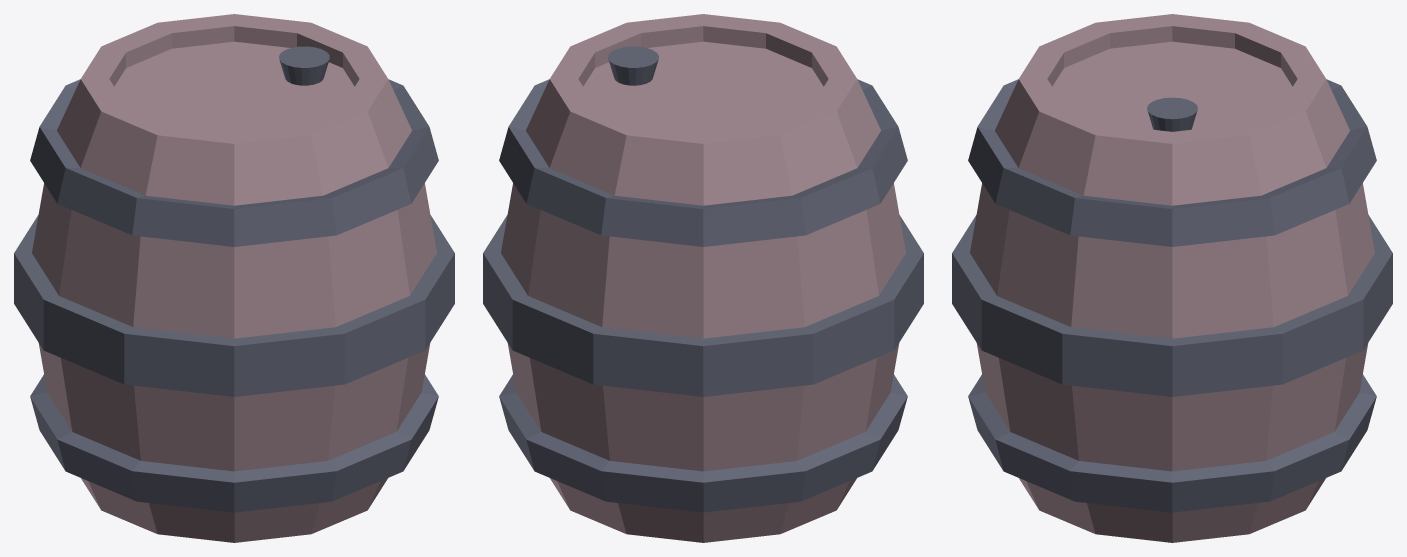
File: barrel.fbx
The picture shows the model from 3 angles, left to right: view 1: azimuth 30°, elevation 25°; view 2: azimuth 150°, elevation 25°; view 3: azimuth 270°, elevation 25°; orthographic projection.
Parts seen in each view (by area): view 1: barrel; view 2: barrel; view 3: barrel.
Part boxes in pixels (left/top/right/bottom): barrel: left=14, top=14, right=454, bottom=542; barrel: left=483, top=14, right=923, bottom=542; barrel: left=952, top=14, right=1392, bottom=542.
Bounding box in the file's own units: 2.4 × 2.42 × 2.4.
